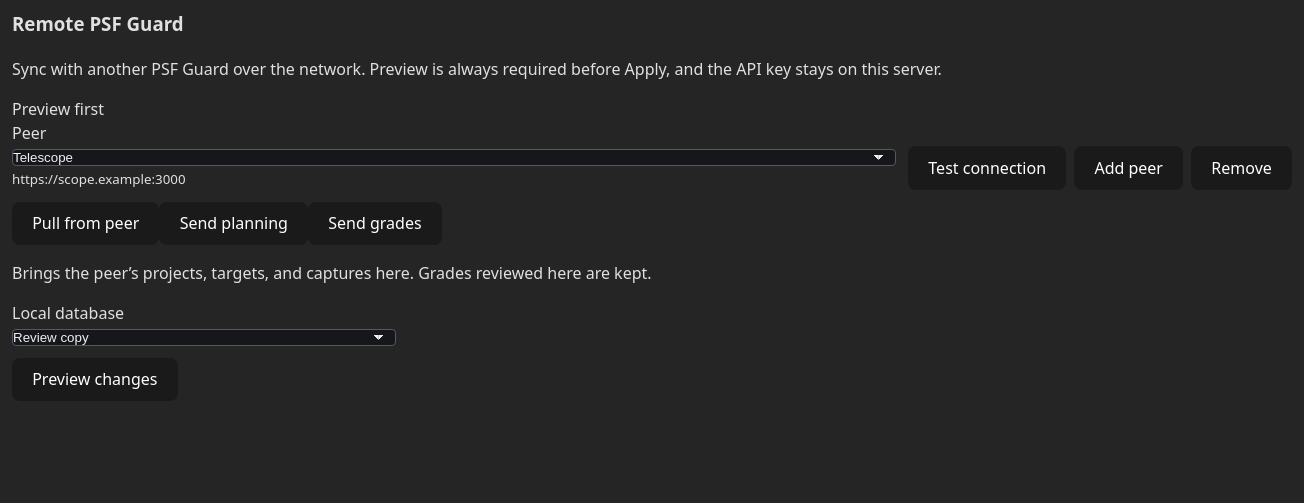
Scenario: RemotePeerSync › previews before it offers to apply
This screenshot has width=1304, height=503.
Expected: the button "Apply this preview" is not shown
Click the button "Preview changes". click: (95, 379)
box: [12,358,178,401]
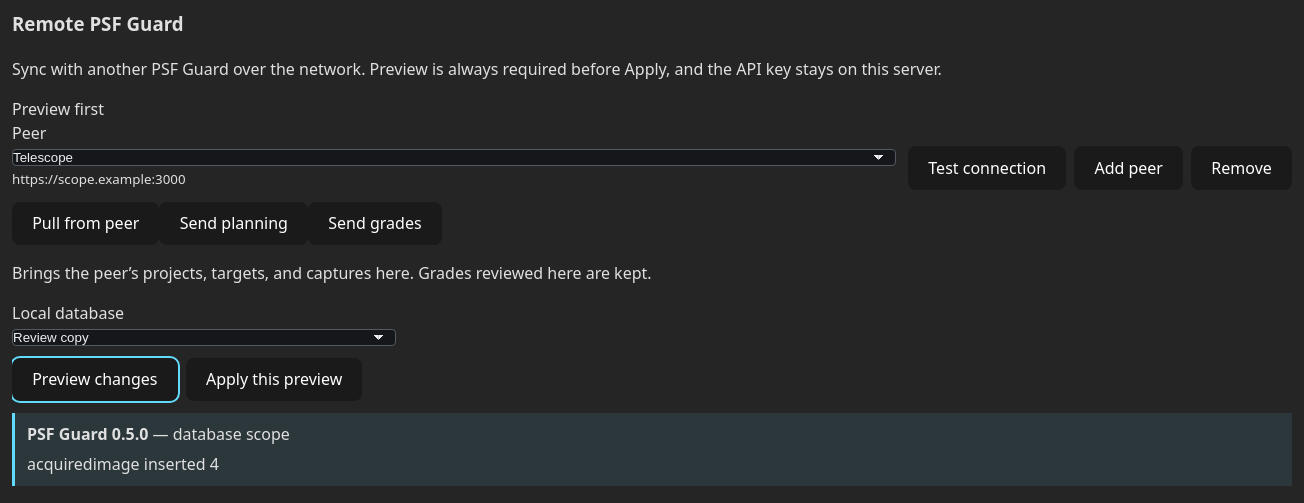
Now the text "acquiredimage inserted 4" is shown, box [27,453,219,475]
Click the button "Apply this preview". click: (274, 379)
box: [186,358,362,401]
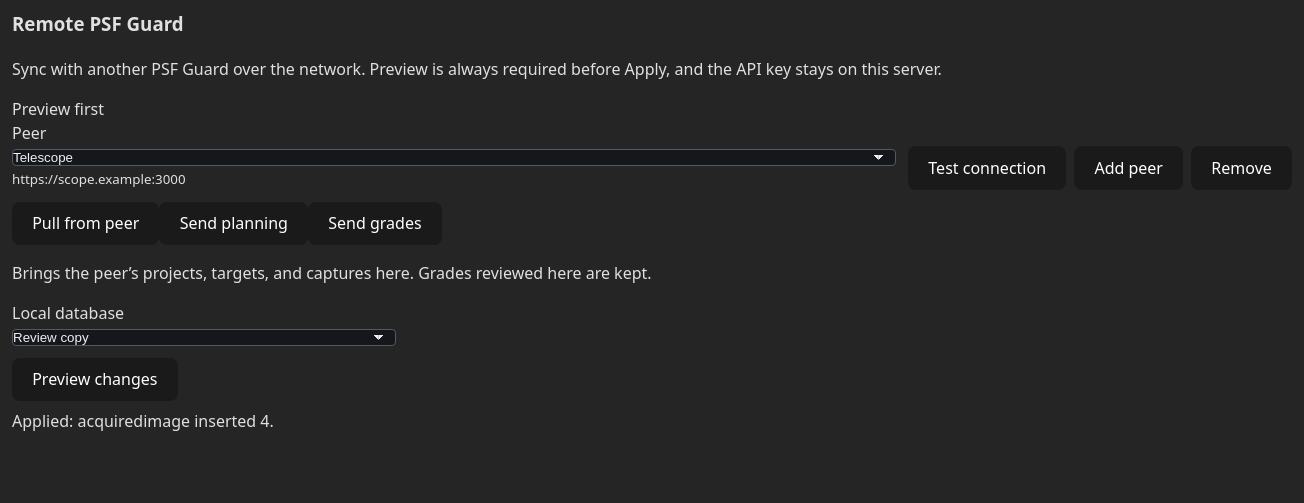
Now the text "Applied: acquiredimage inserted 4." is shown, box [12,410,274,432]
